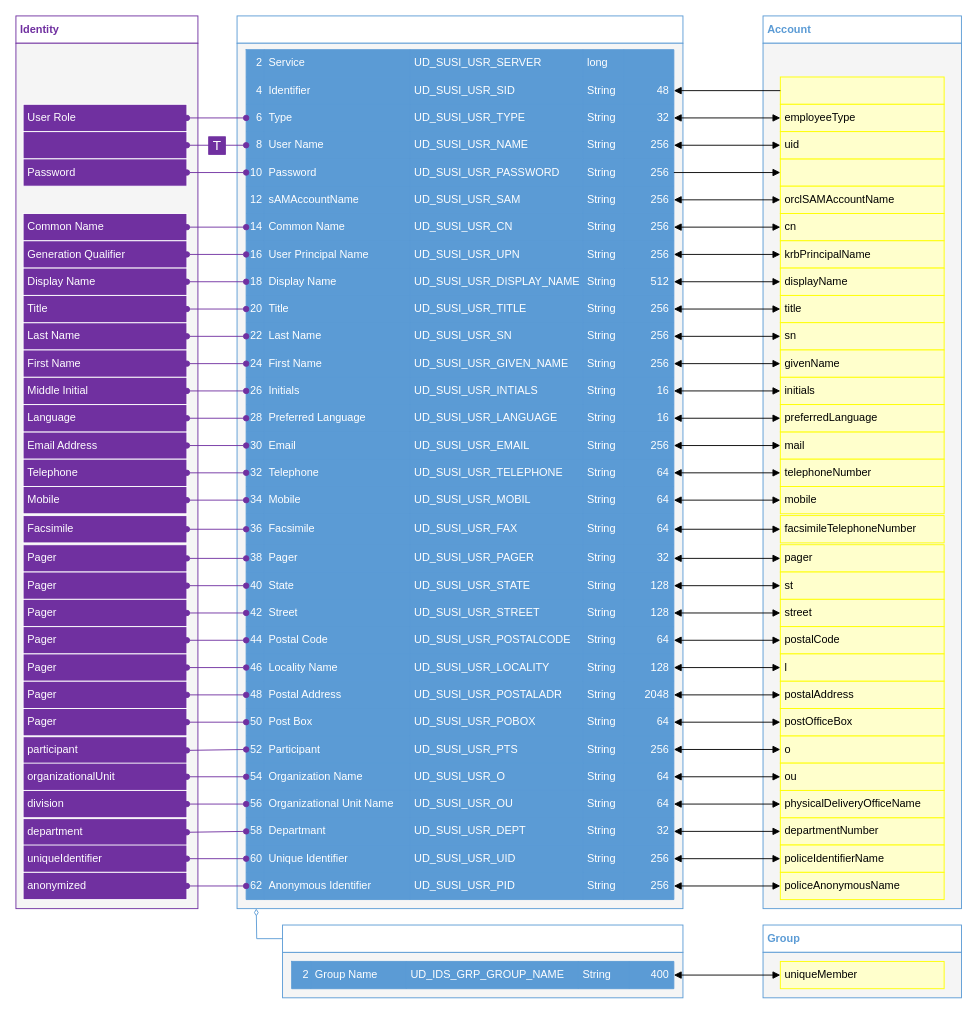
The diagram is 978 pixels wide and 1014 high, and some of its shapes have lost their labels. Each missing label, with the box of its shape:
entryUUID: (779, 76, 944, 104)
IDS Account: (236, 15, 683, 43)
IDS Account Group: (282, 924, 683, 952)
User Login: (22, 131, 187, 159)
userPassword: (779, 158, 944, 186)
